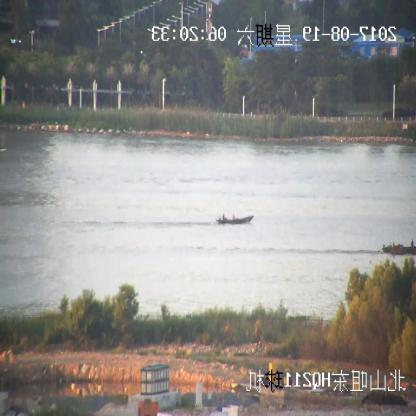Fishing Boat: (382, 239, 415, 257), (216, 214, 252, 226)
